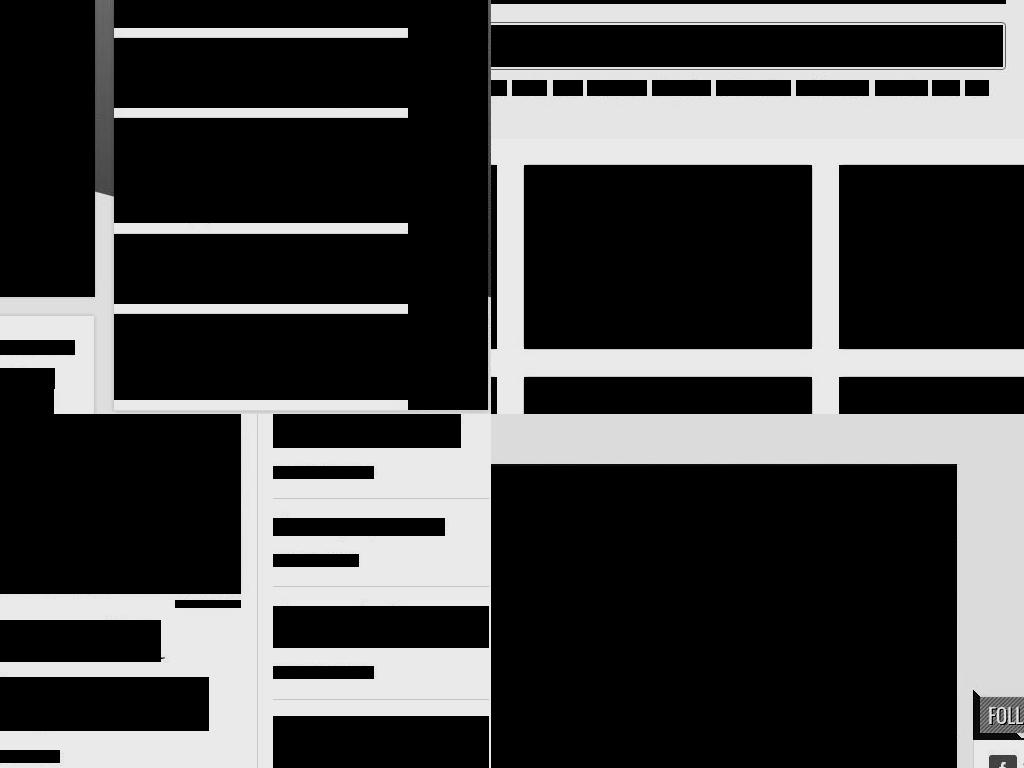button: (524, 165, 812, 349), (0, 414, 241, 594), (653, 466, 957, 601), (653, 601, 957, 736), (114, 118, 488, 223), (839, 165, 1024, 349), (114, 314, 488, 400), (114, 38, 488, 108), (114, 234, 488, 304), (491, 466, 653, 601), (491, 601, 653, 736), (114, 0, 488, 28), (906, 480, 943, 502), (906, 615, 943, 637), (603, 480, 639, 502), (603, 615, 639, 637)
field: (491, 25, 963, 67), (962, 25, 1003, 67)
heading: (184, 128, 388, 223), (184, 324, 388, 400), (667, 545, 943, 591), (667, 680, 943, 726), (184, 48, 388, 106), (184, 244, 388, 302), (273, 606, 489, 648), (538, 249, 798, 276), (491, 545, 639, 591), (491, 680, 639, 726), (0, 620, 161, 662), (273, 414, 461, 448), (184, 0, 388, 26), (853, 249, 1024, 276), (273, 518, 445, 536), (0, 368, 55, 389)
image: (653, 466, 957, 618), (653, 601, 957, 753), (0, 414, 241, 594), (491, 466, 653, 618), (491, 601, 653, 753), (708, 480, 902, 588), (709, 615, 901, 723), (491, 480, 588, 588), (491, 615, 583, 723), (408, 118, 488, 233), (408, 314, 488, 410), (408, 37, 488, 118), (408, 135, 488, 216), (408, 233, 488, 314), (408, 322, 488, 402), (408, 38, 488, 117), (408, 234, 488, 313), (636, 175, 700, 239), (958, 175, 1010, 239), (408, 0, 488, 38), (408, 0, 488, 37), (423, 337, 473, 387), (951, 387, 1016, 414), (636, 387, 700, 414), (988, 755, 1017, 768), (603, 516, 639, 519), (906, 516, 940, 519), (603, 651, 633, 654), (906, 651, 932, 654)
link: (538, 280, 798, 324), (853, 280, 1024, 324), (273, 466, 374, 479), (273, 666, 374, 679), (716, 80, 791, 96), (796, 80, 869, 96), (273, 554, 359, 567), (587, 80, 647, 96), (652, 80, 711, 96), (875, 80, 928, 96), (0, 750, 60, 763), (512, 80, 547, 96), (553, 80, 583, 96), (932, 80, 960, 96), (965, 80, 989, 96), (491, 80, 507, 96)
text: (0, 677, 209, 731), (273, 716, 489, 768), (0, 382, 54, 414), (0, 340, 75, 355), (175, 600, 241, 608)
